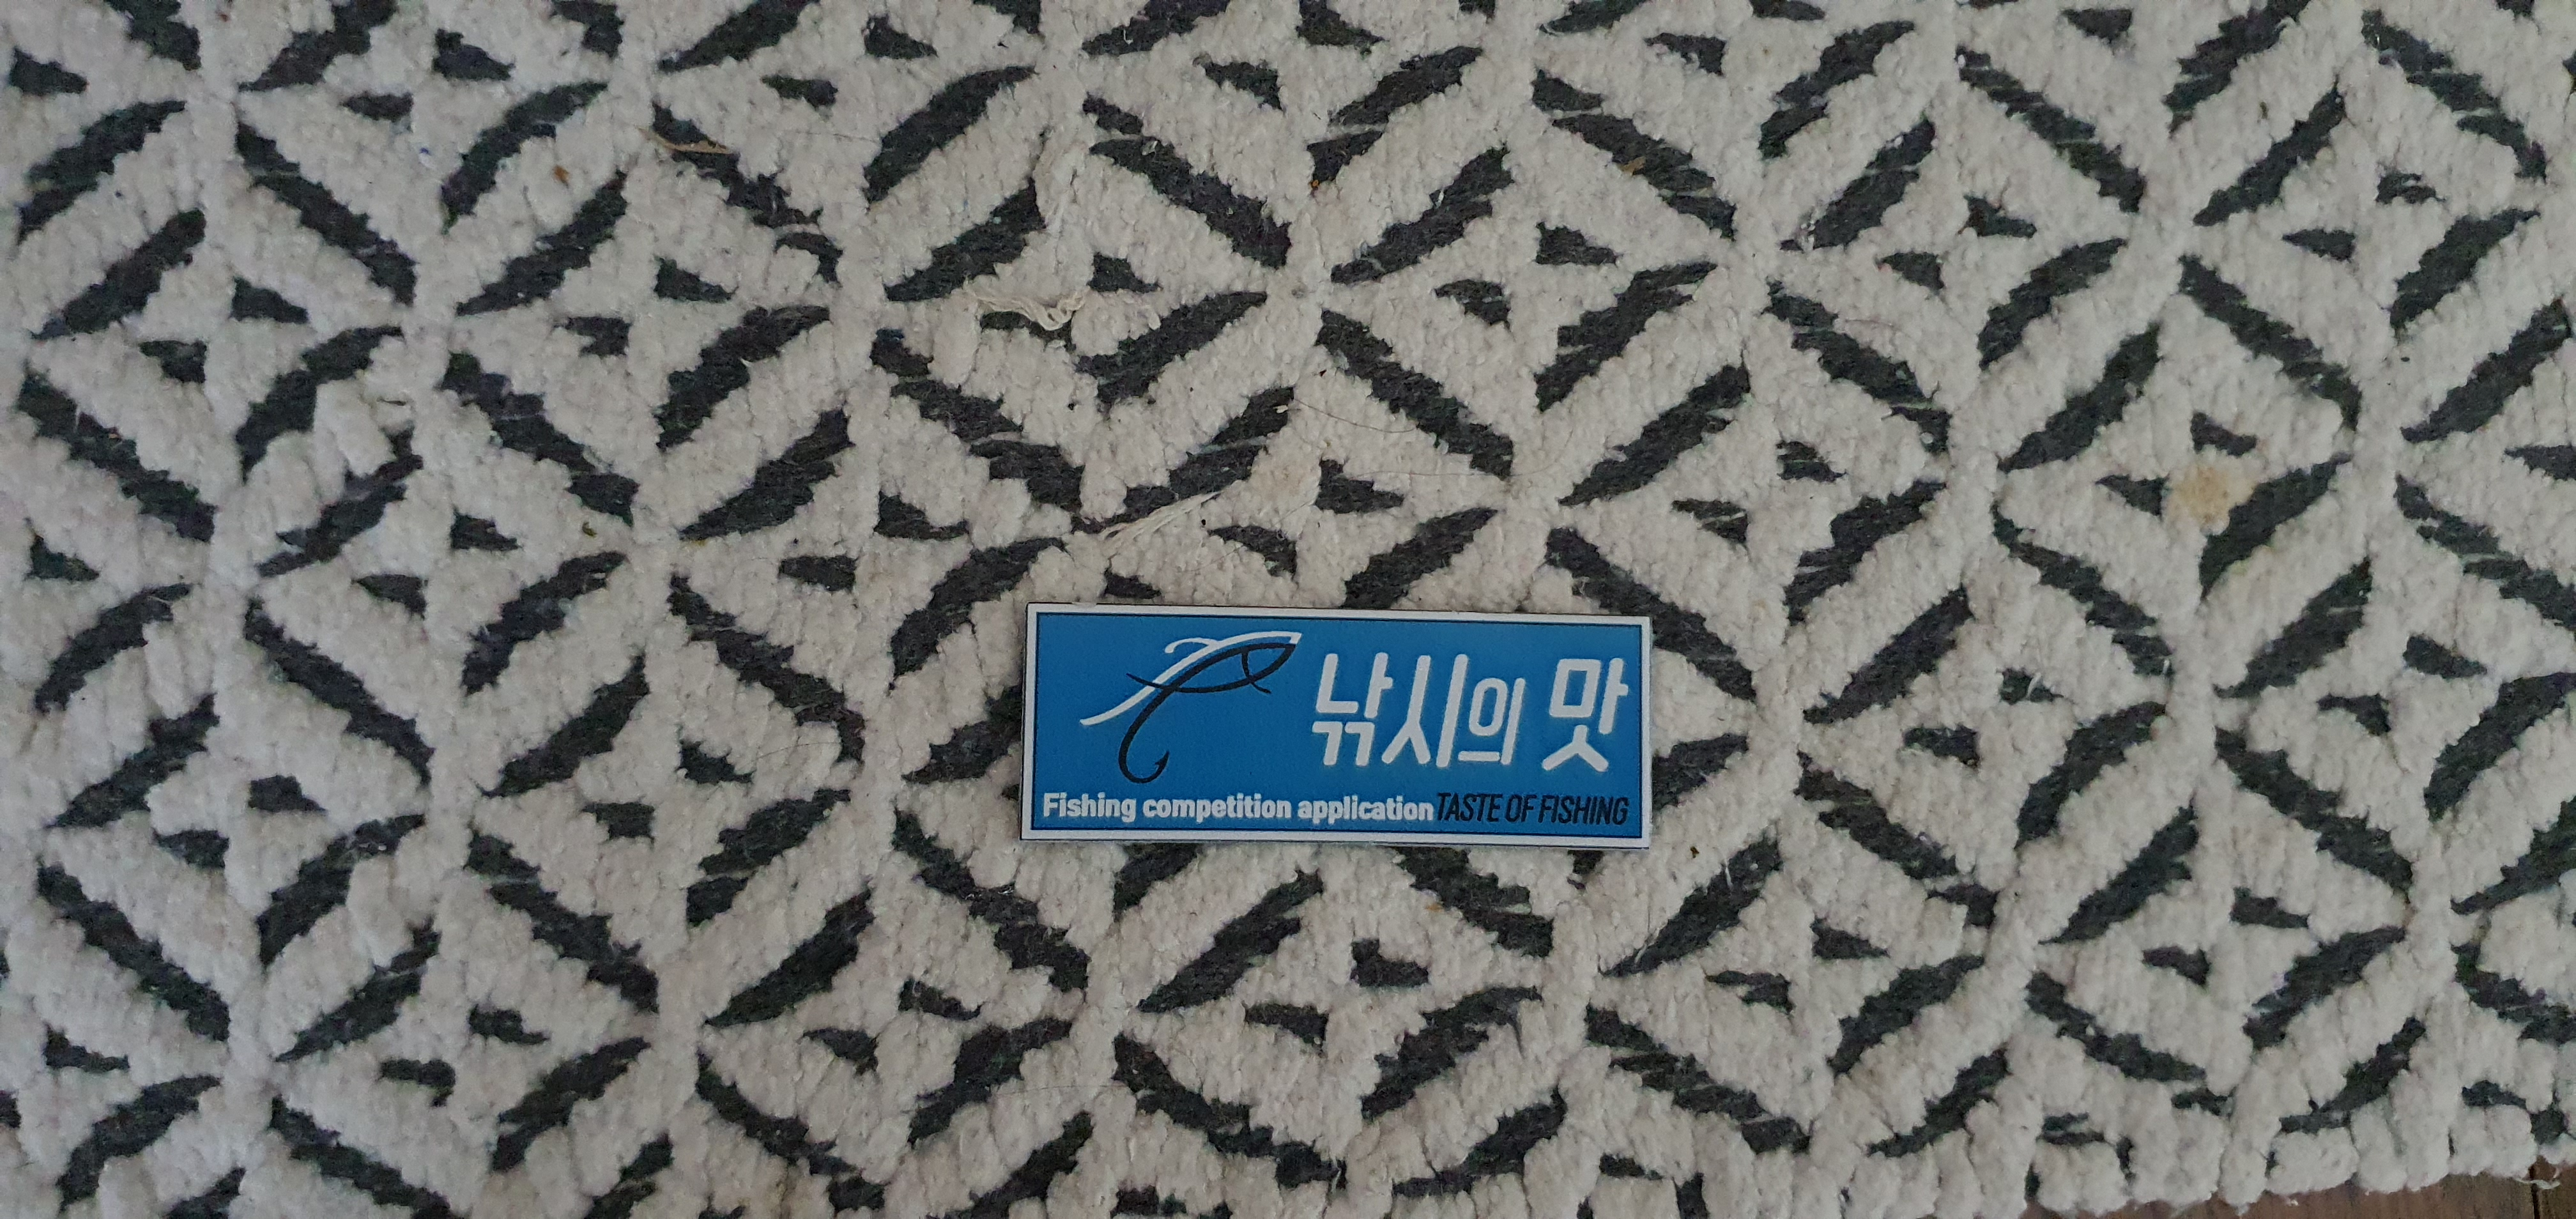tag: (1024, 601, 1654, 849)
